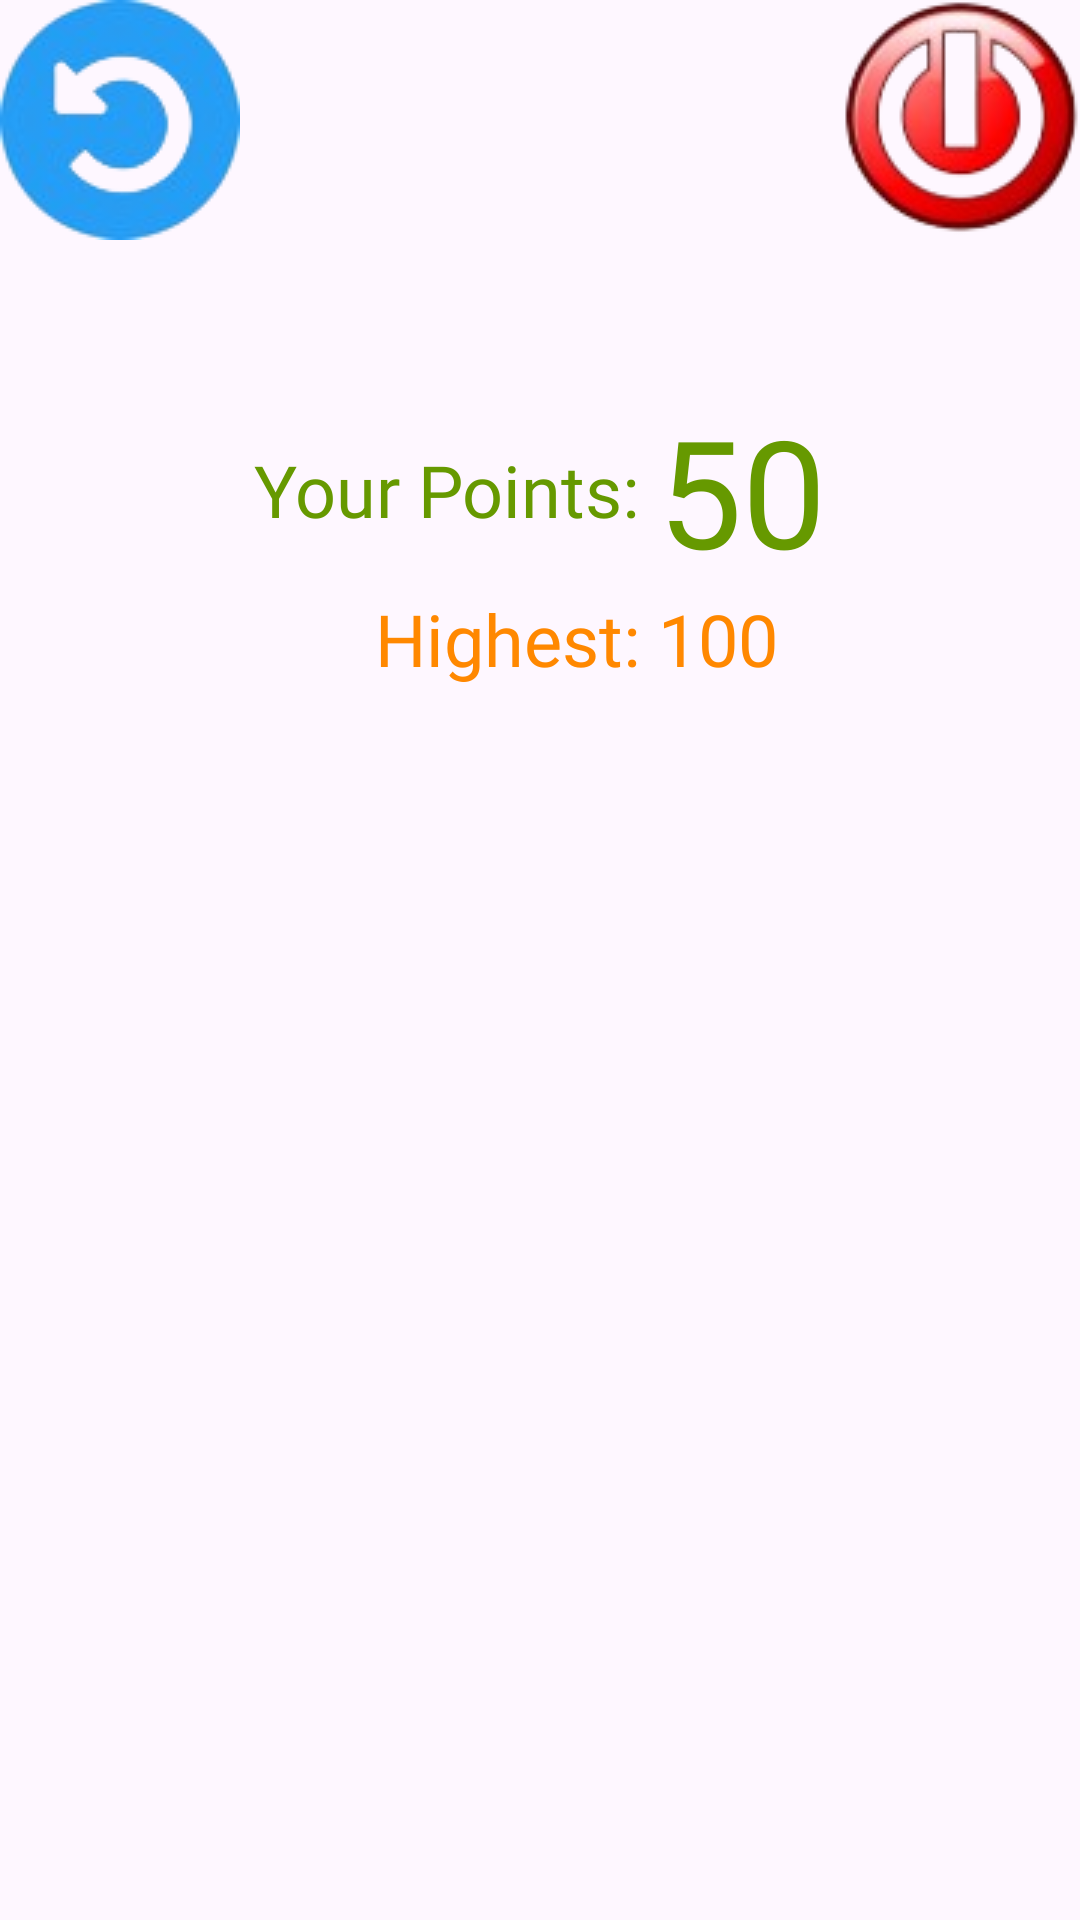

Where to tap for icons on this 1080px x 1920px app screen, as point (x, y):
exit: point (961, 117)
restart: point (120, 120)
